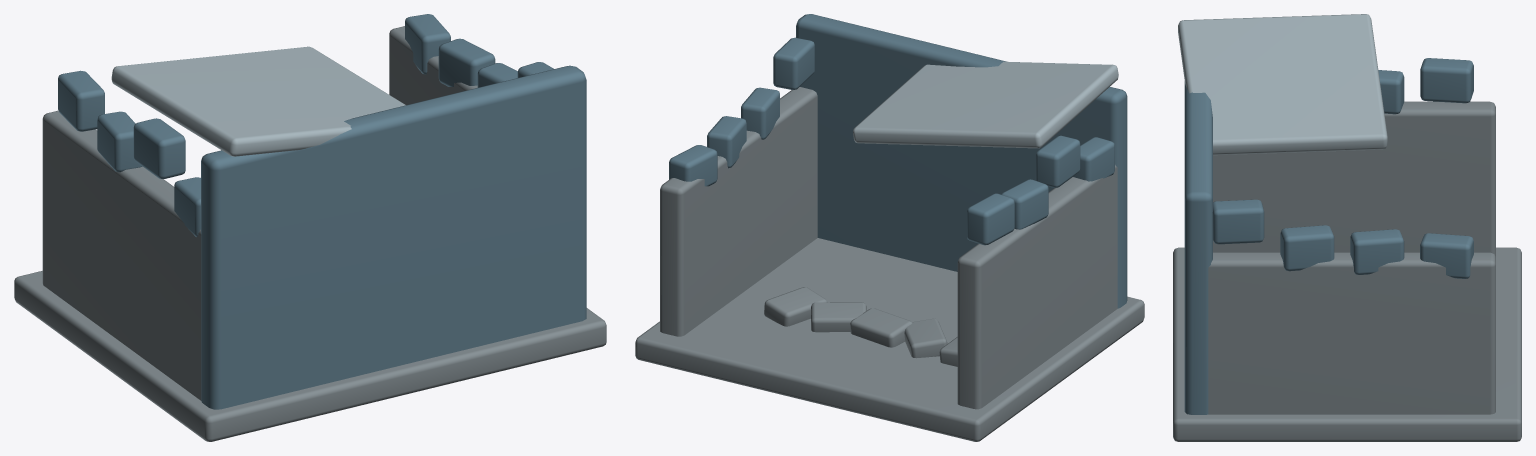
Rendered from 31_habitat_ruined.glb.
3 views of the same model, side by side, from view 1: azimuth 30°, elevation 25°; view 2: azimuth 150°, elevation 25°; view 3: azimuth 270°, elevation 25° (orthographic). The views are drawn at different scales.
Visible parts, largest first — view 1: Hab rear, Hab slab, Warped roof; view 2: Hab slab, Hab rear, Warped roof; view 3: Hab slab, Warped roof, Hab rear.
Boxes of the visible parts, x1,y1,x2,y2 form: Hab rear: (58, 14, 586, 409); Hab slab: (14, 26, 606, 441); Warped roof: (111, 46, 405, 156); Hab slab: (635, 87, 1144, 441); Hab rear: (669, 14, 1127, 308); Warped roof: (853, 61, 1118, 148); Hab slab: (1173, 101, 1521, 441); Warped roof: (1178, 14, 1387, 155); Hab rear: (1184, 58, 1473, 414).
Bounding box in the file's own units: 3.2 × 2.25 × 2.7.
